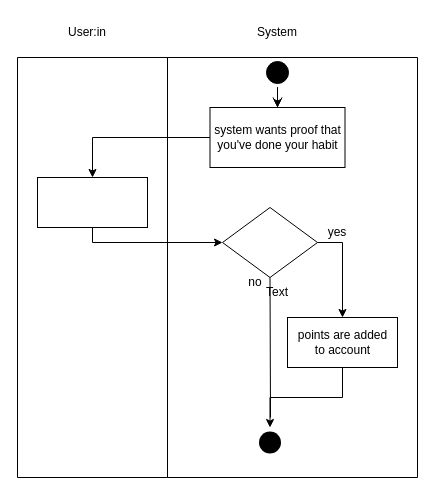
The diagram is 435 pixels wide and 495 high, and some of its shapes have lost their labels. Here are the shapes that lost their labels. From the top down, the centre of each, then its label:
the point at 92,202: insert individual habit data
the point at 270,242: is proof data valid?
